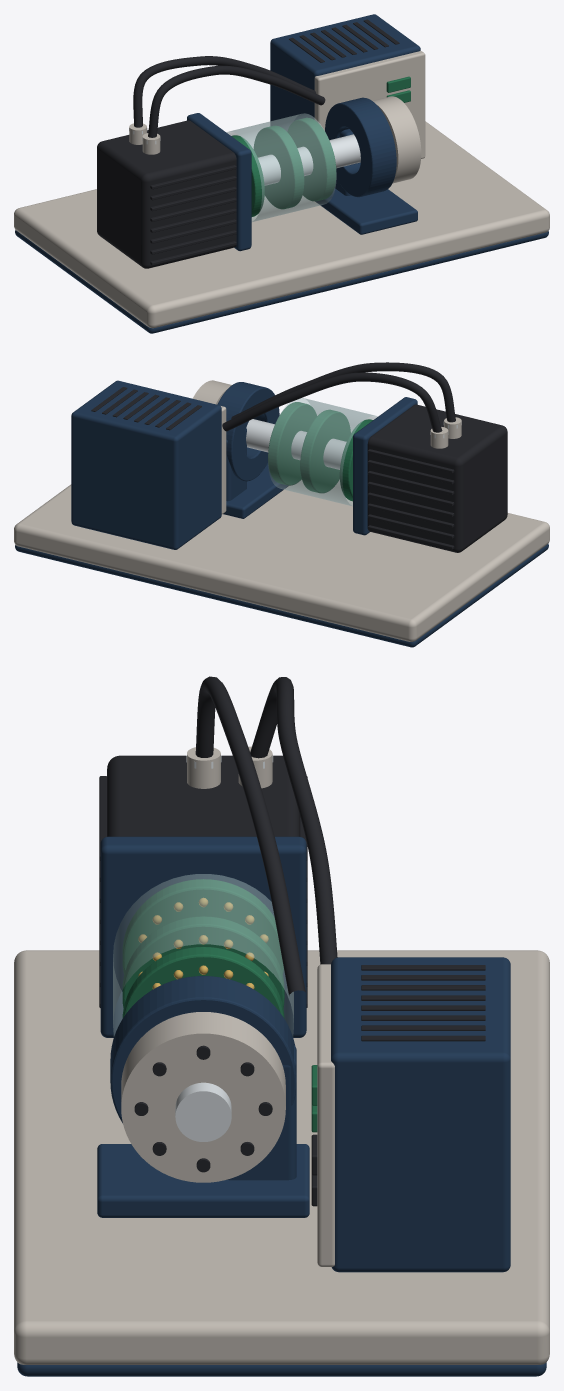
Rendered from robots-54.glb.
3 renders of one model, top to bottom at view 1: azimuth 30°, elevation 25°; view 2: azimuth 150°, elevation 25°; view 3: azimuth 270°, elevation 25°, orthographic. The views are drawn at different scales.
Visible parts, largest first — view 1: base, motor, controller, support, cover, encoder, cables, disc, shaft, strain-relief, ports; view 2: base, controller, motor, cover, encoder, support, cables, shaft, strain-relief, disc; view 3: base, controller, motor, support, disc, encoder, cables, cover, shaft, strain-relief, ports.
Boxes of the visible parts, x1,y1,x2,y2 form: base: (14, 121, 549, 333); motor: (97, 113, 251, 268); controller: (270, 14, 425, 158); support: (315, 97, 417, 234); cover: (226, 113, 336, 221); encoder: (231, 117, 336, 216); cables: (133, 56, 325, 137); disc: (373, 96, 421, 183); shaft: (258, 134, 360, 185); strain-relief: (129, 123, 160, 154); ports: (386, 76, 410, 102); base: (14, 480, 549, 647); controller: (71, 380, 226, 549); motor: (353, 397, 507, 552); cover: (268, 398, 377, 506); encoder: (268, 402, 372, 501); support: (217, 382, 288, 518); cables: (222, 362, 455, 432); shaft: (246, 419, 346, 469); strain-relief: (430, 417, 461, 448); disc: (193, 380, 231, 404); base: (14, 950, 549, 1376); controller: (317, 957, 510, 1272); motor: (99, 755, 307, 1037); support: (97, 976, 309, 1217); disc: (121, 1012, 285, 1182); encoder: (122, 879, 284, 1018); cables: (195, 676, 337, 995); cover: (113, 874, 293, 1036); shaft: (175, 1082, 231, 1141); strain-relief: (186, 746, 273, 788); ports: (311, 1065, 317, 1206).
Bounding box in the file's own units: 2.75 × 1.35 × 1.64.
